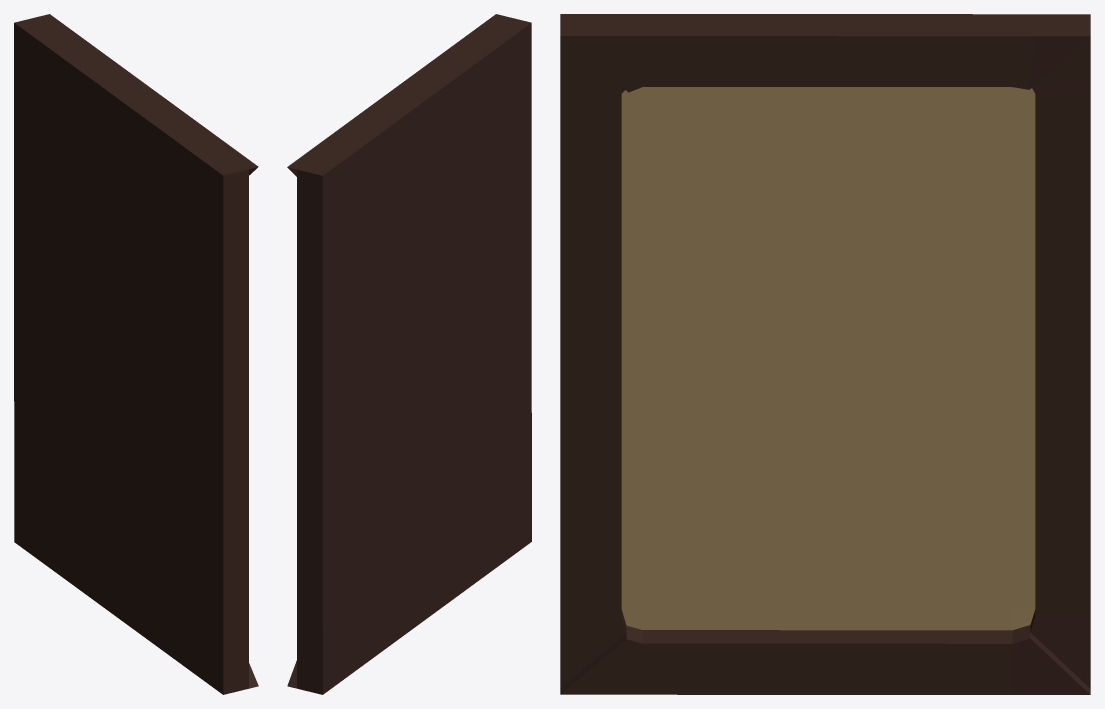
The model's file is frame.fbx.
The picture shows the model from 3 angles, left to right: view 1: azimuth 30°, elevation 25°; view 2: azimuth 150°, elevation 25°; view 3: azimuth 270°, elevation 25°; orthographic projection. The views are drawn at different scales.
Parts seen in each view (by area): view 1: Плоскость.004; view 2: Плоскость.004; view 3: Плоскость.004.
Part boxes in pixels (x1,y1,x2,y2): Плоскость.004: (14,14,258,694); Плоскость.004: (287,14,531,694); Плоскость.004: (560,14,1090,694).
Size of the model in its own units: 2.5 by 34.07 by 24.86.
